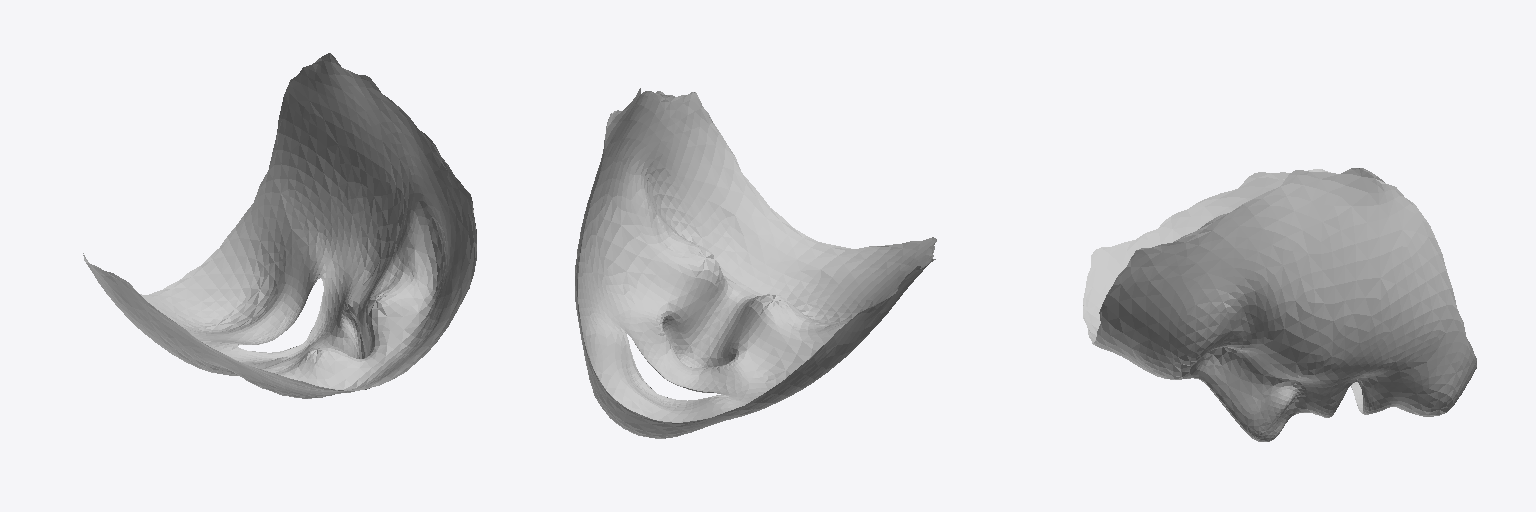
File: face_gab_sfm46.obj
3 renders of one model, left to right at view 1: azimuth 30°, elevation 25°; view 2: azimuth 150°, elevation 25°; view 3: azimuth 270°, elevation 25°, orthographic.
Size of the model in its own units: 165 by 153 by 190.